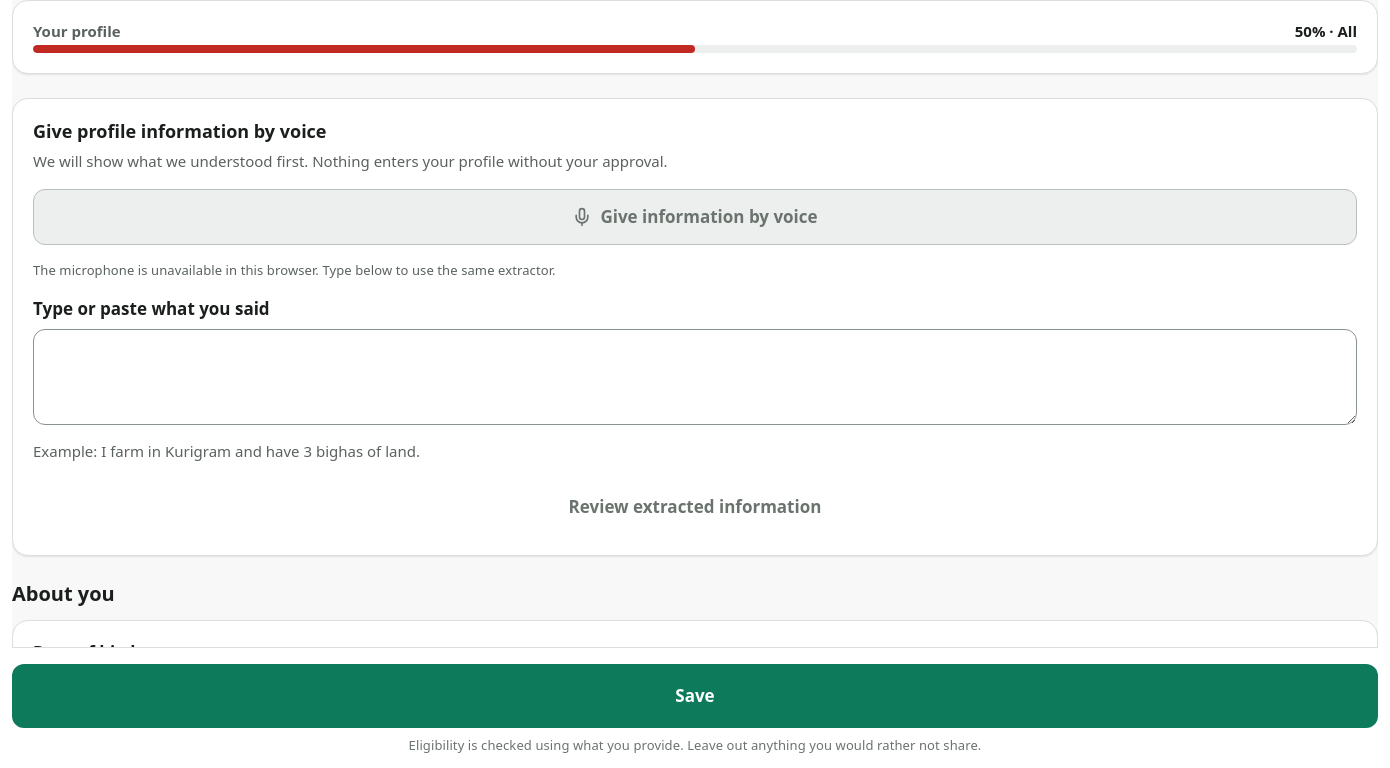
Test case: ProfileForm pregnancy field › reconciles all local fields from the canonical PATCH response
Click the button "Save" at (695, 696), box x1=12 y1=664 x2=1378 y2=728
(page scrolled)
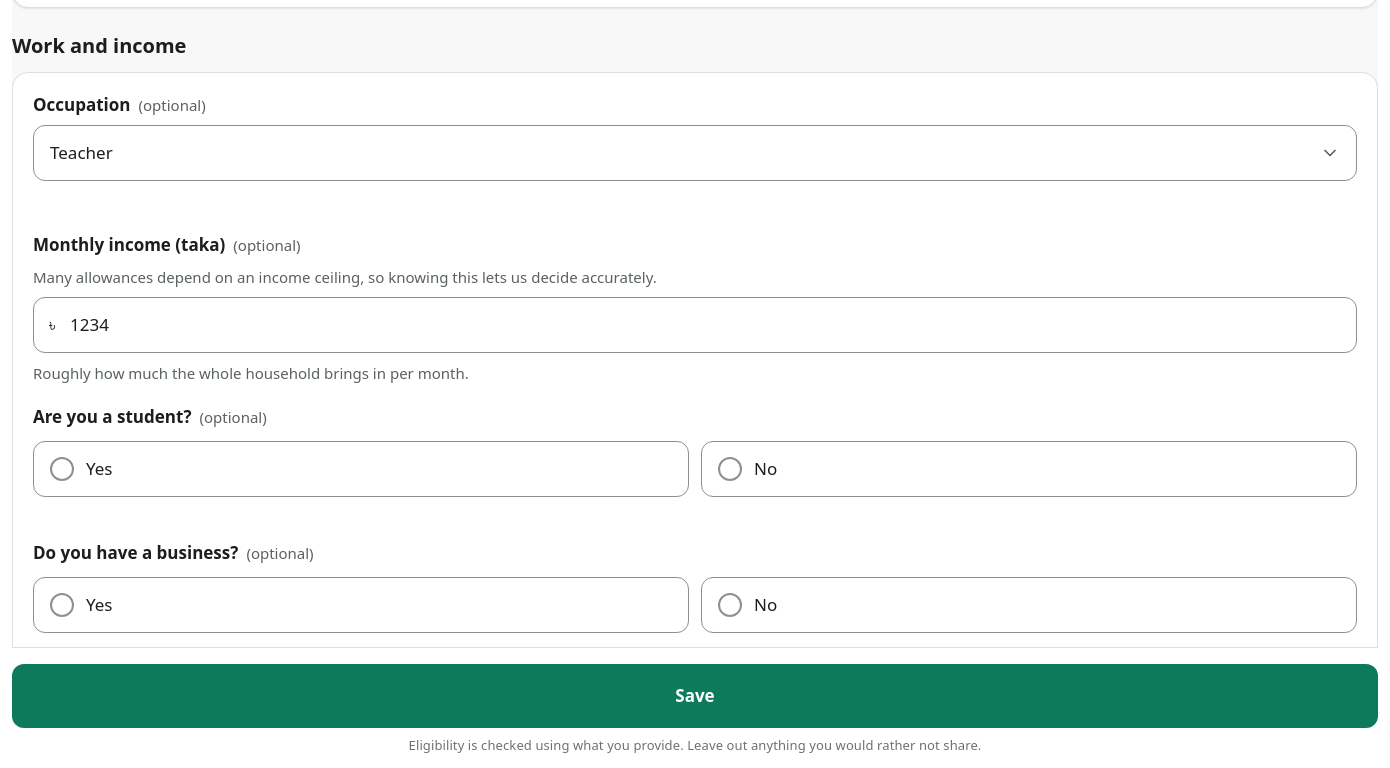
Check: the field labelled "Monthly income (taka)(optional)" holds "1234", box x1=33 y1=297 x2=1357 y2=353
